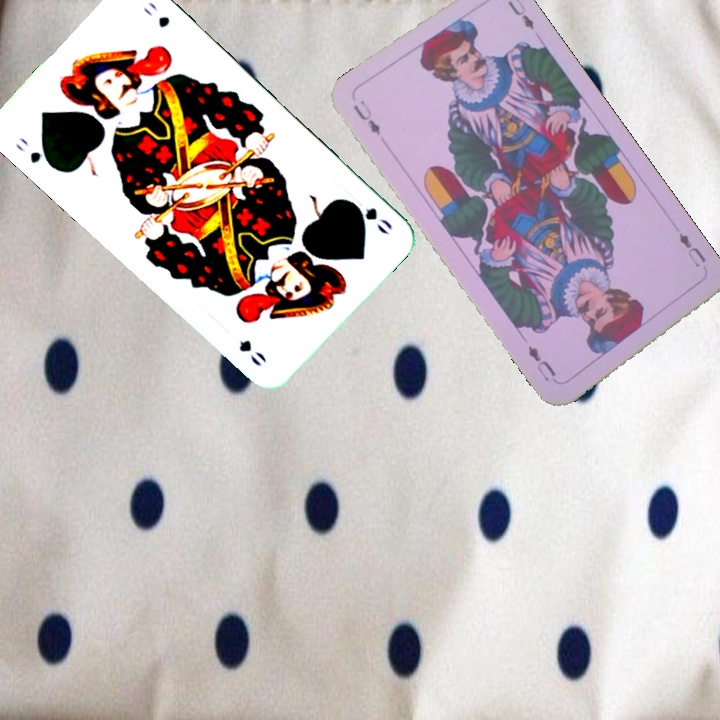EU: (674, 229, 709, 270), (349, 96, 383, 138)
GO: (343, 195, 395, 238), (10, 133, 58, 172)
